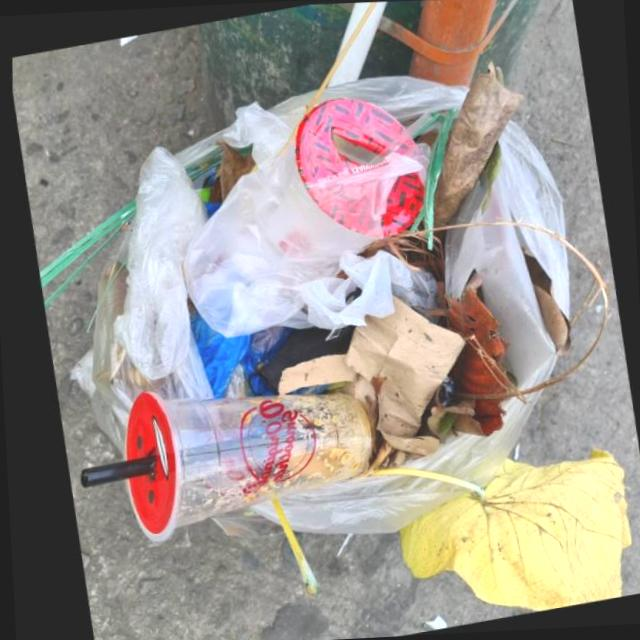giay: (282, 294, 464, 477)
hop_nhua: (180, 99, 423, 338), (121, 390, 370, 543)
la_cay: (370, 445, 634, 609)
ong_hut_nhua: (79, 432, 265, 488), (363, 108, 429, 171)
tui_ni_long: (108, 147, 214, 403), (305, 248, 433, 330)
